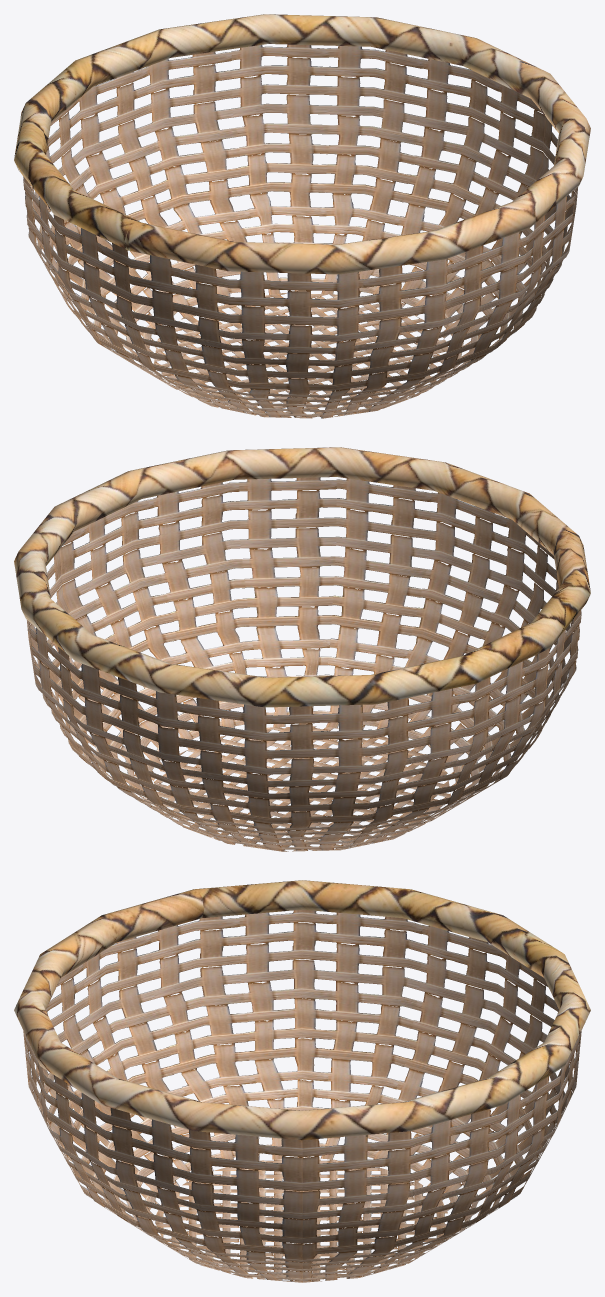
The model's file is basket.fbx.
The picture shows the model from 3 angles, top to bottom: view 1: azimuth 30°, elevation 25°; view 2: azimuth 150°, elevation 25°; view 3: azimuth 270°, elevation 25°; orthographic projection.
Visible parts, largest first — view 1: Cylinder.014; view 2: Cylinder.014; view 3: Cylinder.014.
Part boxes in pixels (bbox=[...]): Cylinder.014: bbox=[14, 14, 590, 418]; Cylinder.014: bbox=[14, 447, 590, 851]; Cylinder.014: bbox=[14, 880, 590, 1282].
Bounding box in the file's own units: 73.46 × 73.46 × 31.47.
Materials: 2 (2 with a texture image).
